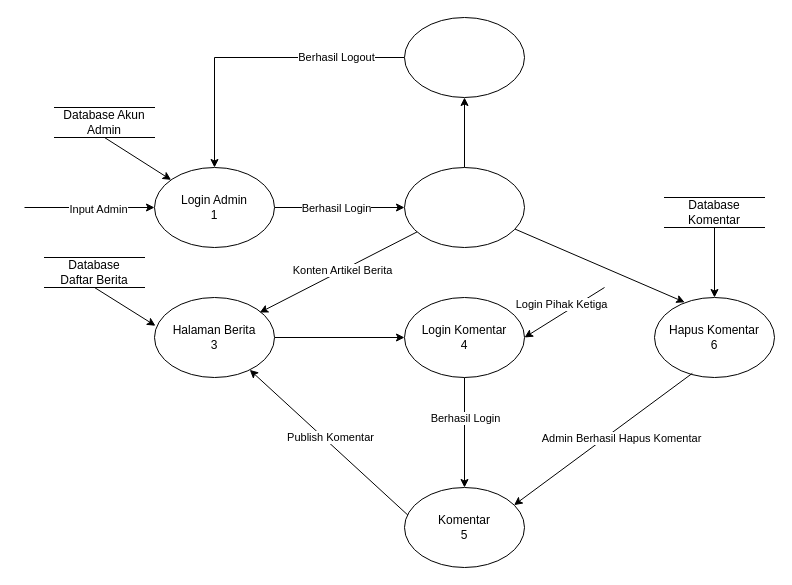
The diagram is 792 pixels wide and 585 high, and some of its shapes have lost their labels. Each missing label, with the centre of its shape:
"Akses Admin 2" goes at pixel 464 207.
"Logout Admin" goes at pixel 464 57.
